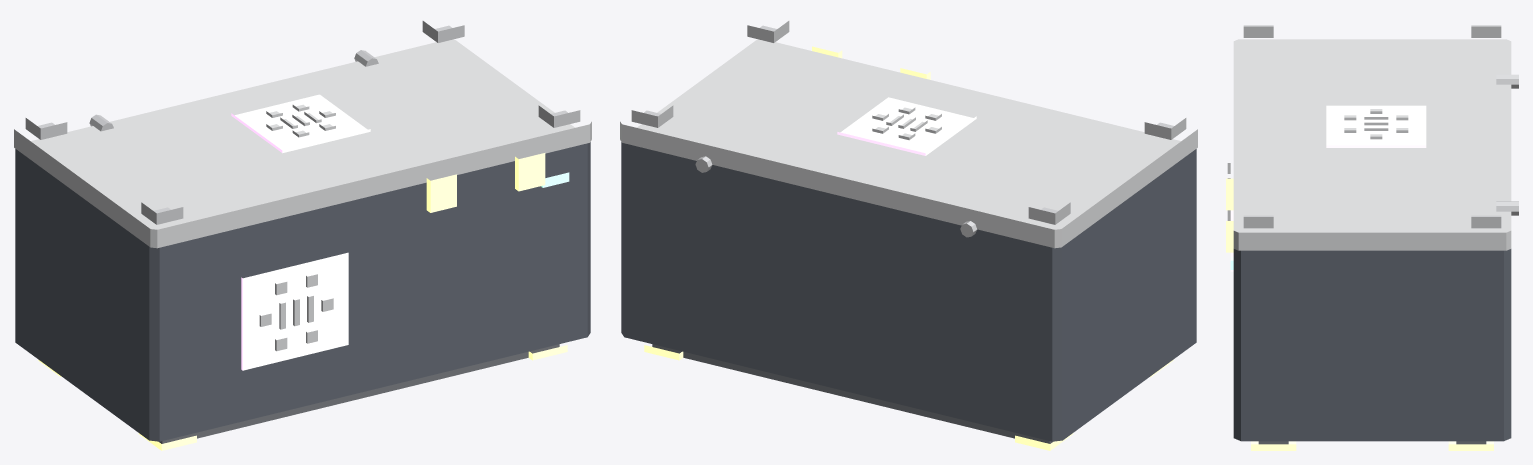
Rendered from iter_05_104.glb.
3 views of the same model, side by side, from view 1: azimuth 30°, elevation 25°; view 2: azimuth 150°, elevation 25°; view 3: azimuth 270°, elevation 25° (orthographic).
Visible parts, largest first — view 1: Body_104, Lid_104, Glyph_Plate_104, Lid_Glyph_104, Skids_104, Stack_Lugs_104, Latches_104, Glyph_Marks_104, Lid_Glyph_Marks_104, Floor_Clamps_104; view 2: Body_104, Lid_104, Lid_Glyph_104, Skids_104, Stack_Lugs_104, Lid_Glyph_Marks_104, Floor_Clamps_104; view 3: Lid_104, Body_104, Lid_Glyph_104, Stack_Lugs_104, Floor_Clamps_104, Lid_Glyph_Marks_104, Hinges_104, Latches_104.
Part boxes in pixels (x1,y1,x2,y2): Body_104: [15, 142, 590, 441]; Lid_104: [14, 39, 591, 248]; Glyph_Plate_104: [241, 252, 348, 370]; Lid_Glyph_104: [231, 94, 370, 153]; Skids_104: [159, 344, 559, 443]; Stack_Lugs_104: [25, 21, 580, 224]; Latches_104: [426, 153, 545, 212]; Glyph_Marks_104: [259, 274, 333, 351]; Lid_Glyph_Marks_104: [266, 104, 335, 137]; Floor_Clamps_104: [38, 345, 567, 450]; Body_104: [621, 142, 1196, 441]; Lid_104: [620, 39, 1197, 248]; Lid_Glyph_104: [837, 97, 976, 155]; Skids_104: [652, 344, 1052, 443]; Stack_Lugs_104: [631, 21, 1186, 224]; Lid_Glyph_Marks_104: [872, 107, 941, 140]; Floor_Clamps_104: [644, 345, 1173, 450]; Lid_104: [1233, 39, 1511, 250]; Body_104: [1233, 249, 1511, 441]; Lid_Glyph_104: [1326, 105, 1426, 147]; Stack_Lugs_104: [1243, 25, 1501, 228]; Floor_Clamps_104: [1251, 441, 1493, 450]; Lid_Glyph_Marks_104: [1344, 109, 1408, 139]; Hinges_104: [1496, 74, 1518, 215]; Latches_104: [1226, 178, 1233, 252].
Bounding box in the file's own units: 1 × 0.525 × 0.585.
